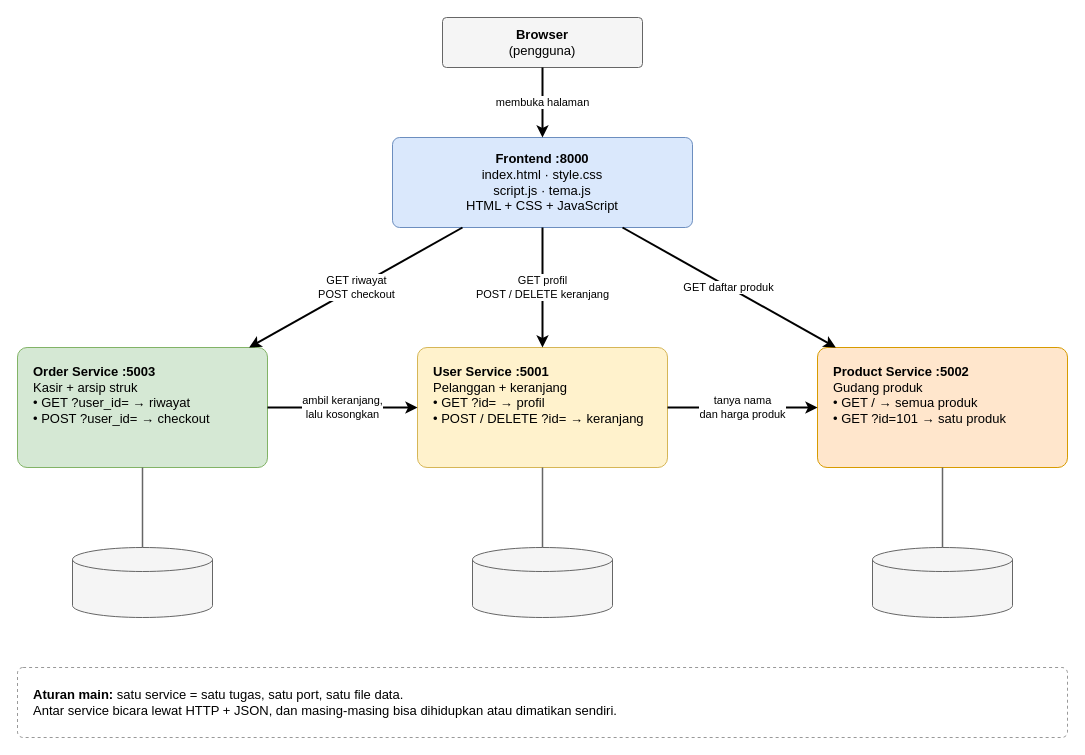
Some shapes in this 1085 by 755 pixel diagram are drawn without their labels. The shapes that lost their labels are listed below. From the top down, each one's centre as x and y in pixels, then its label:
At (142,582): "orders.json".
At (542,582): "users.json".
At (942,582): "produk.json".
